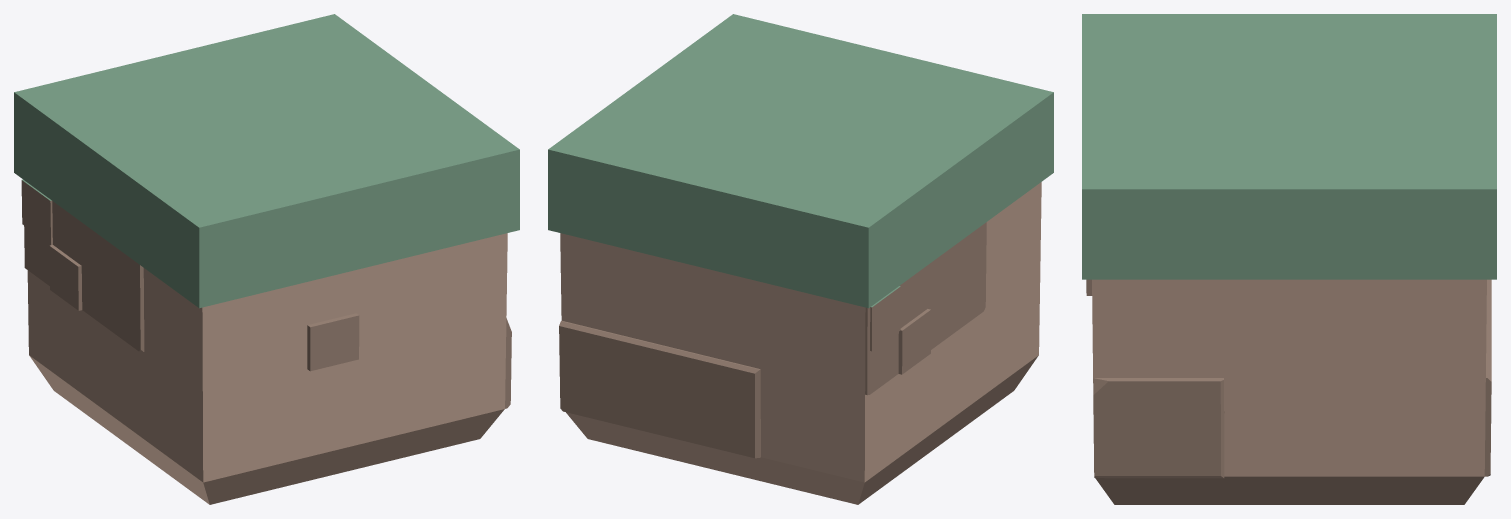
File: Grass_Block.fbx
3 renders of one model, left to right at view 1: azimuth 30°, elevation 25°; view 2: azimuth 150°, elevation 25°; view 3: azimuth 270°, elevation 25°, orthographic. The views are drawn at different scales.
Visible parts, largest first — view 1: Cube; view 2: Cube; view 3: Cube.
Boxes of the visible parts, x1=… form: Cube: x1=14, y1=14, x2=519, y2=504; Cube: x1=548, y1=14, x2=1053, y2=504; Cube: x1=1082, y1=14, x2=1496, y2=504.
Size of the model in its own units: 211 by 184 by 211.
